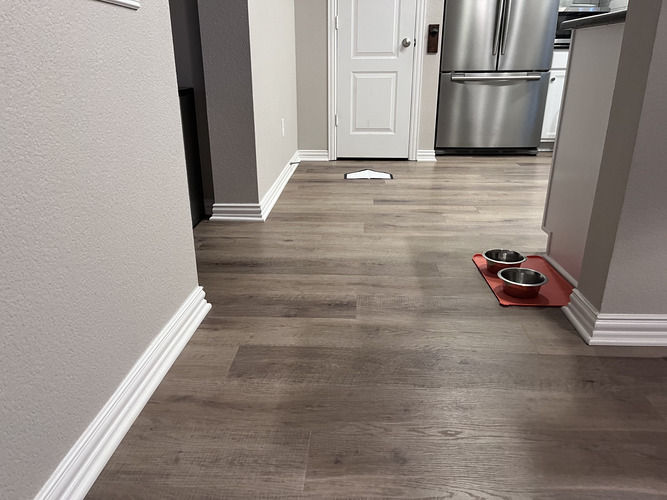homeplate: (345, 167, 392, 181)
